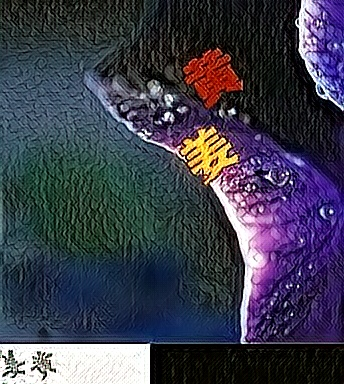BBC6: (182, 43, 246, 109)
BDAA: (177, 122, 241, 188)
